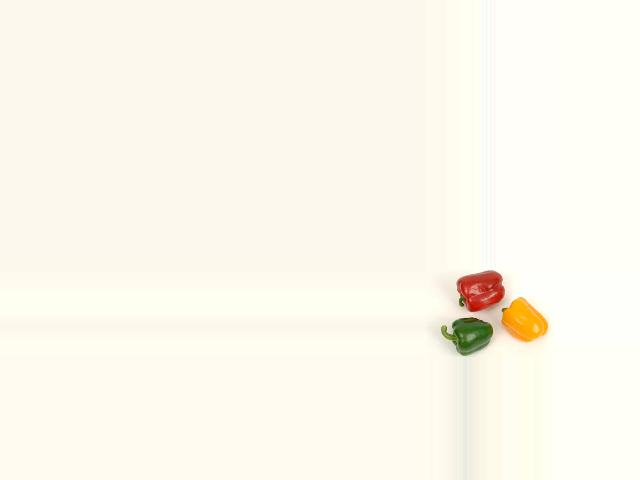bell_pepper: (439, 315, 493, 356)
